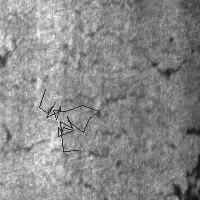crazing: (58, 24, 145, 115), (13, 132, 119, 191), (39, 89, 99, 151)
